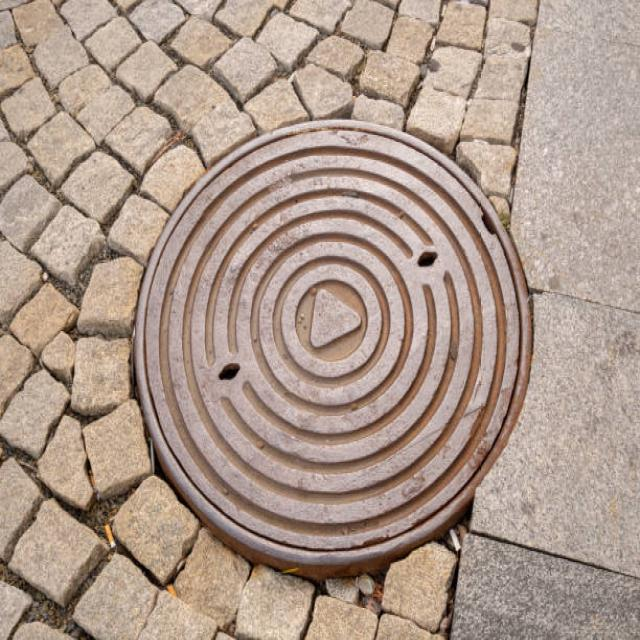Good: (119, 106, 541, 586)
